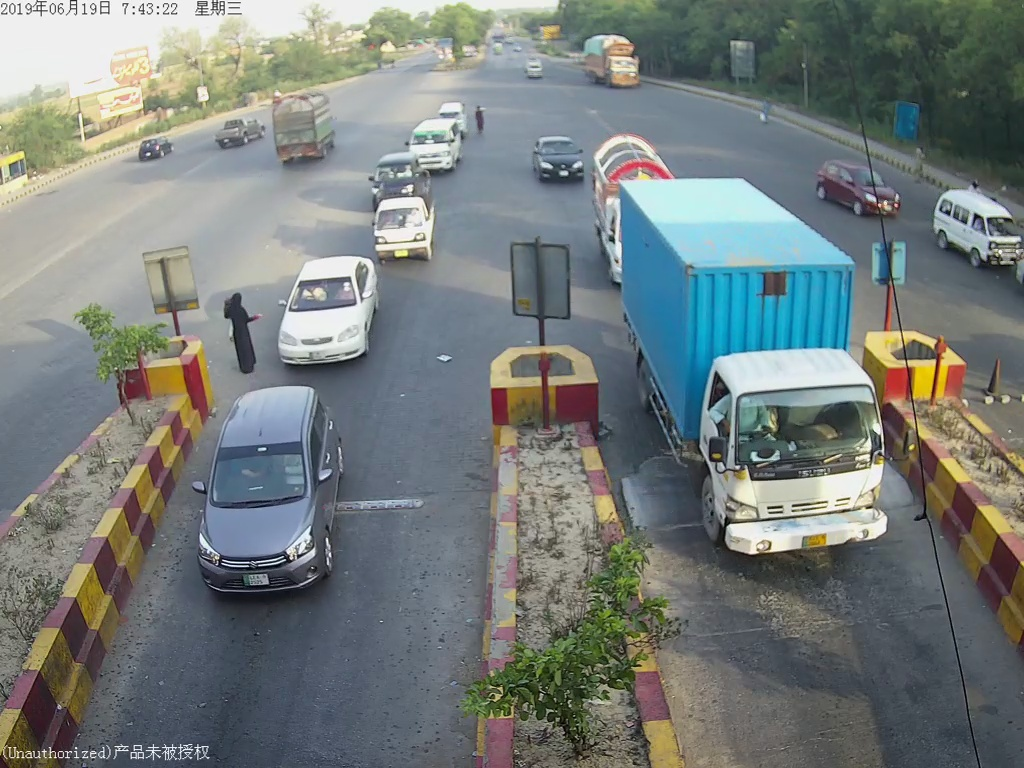Cat-1: (204, 395, 348, 593), (275, 258, 380, 364), (372, 181, 445, 270), (534, 137, 585, 181)
Cat-2: (624, 186, 900, 576), (414, 120, 463, 178)
